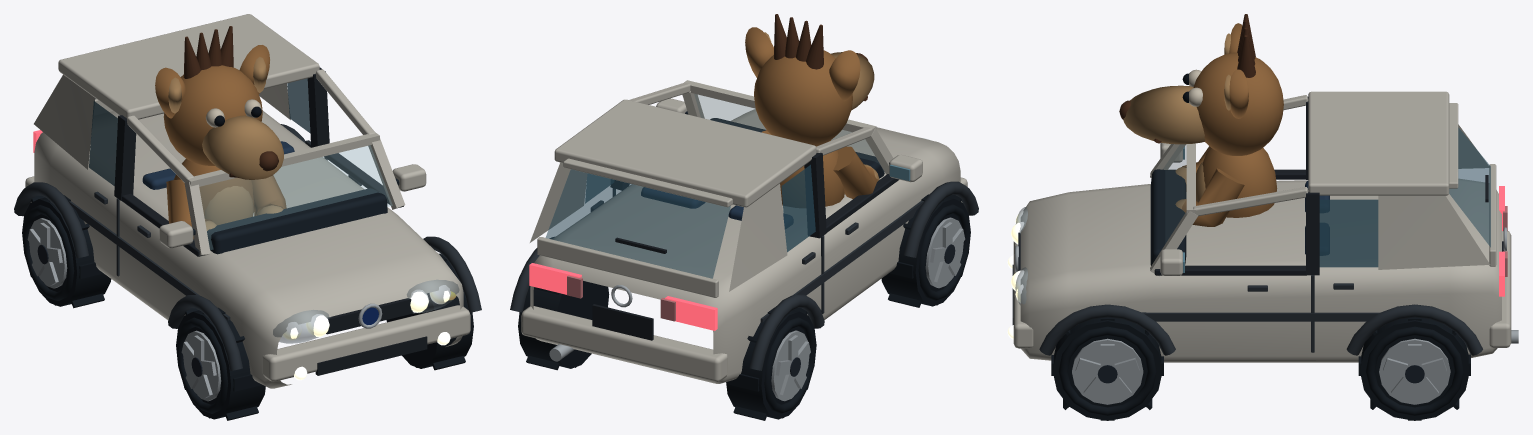
Rendered from hola-willy.glb.
The picture shows the model from 3 angles, left to right: view 1: azimuth 30°, elevation 25°; view 2: azimuth 150°, elevation 25°; view 3: azimuth 270°, elevation 25°; orthographic projection.
Parts seen in each view (by area): view 1: hull_merged, tire_merged (×3), low-windscreen, grille_merged, side-rubbing-strip_merged, alf-head_merged, dashboard, alf-snout_merged, c-pillar_merged, rim_merged (×2), side-glass_merged, headlight-cover_merged (+7 smaller); view 2: hull_merged, hatch-glass, tire_merged (×3), alf-head_merged, side-rubbing-strip_merged, c-pillar_merged, grille_merged, rim_merged (×2), side-glass_merged, tail-light_merged, alf-nose_merged, low-windscreen (+8 smaller); view 3: hull_merged, tire_merged (×2), c-pillar_merged, side-rubbing-strip_merged, alf-head_merged, rim_merged (×2), side-glass_merged, alf-snout_merged, grille_merged, alf-body, hatch-glass, dashboard (+7 smaller).
Boxes of the visible parts, x1,y1,x2,y2 form: hull_merged: (25, 14, 470, 388); tire_merged (×3): (22, 195, 473, 420); low-windscreen: (199, 145, 392, 249); grille_merged: (114, 67, 427, 375); side-rubbing-strip_merged: (14, 124, 481, 370); alf-head_merged: (155, 45, 269, 165); dashboard: (207, 188, 387, 254); alf-snout_merged: (168, 57, 283, 179); c-pillar_merged: (34, 74, 290, 169); rim_merged (×2): (27, 218, 221, 401); side-glass_merged: (89, 78, 310, 185); headlight-cover_merged: (273, 279, 459, 343); hull_merged: (521, 80, 967, 383); hatch-glass: (545, 169, 730, 278); tire_merged (×3): (518, 194, 970, 420); alf-head_merged: (745, 27, 860, 146); side-rubbing-strip_merged: (510, 181, 978, 370); c-pillar_merged: (530, 162, 787, 291); grille_merged: (592, 152, 898, 340); rim_merged (×2): (771, 217, 965, 401); side-glass_merged: (585, 164, 815, 252); tail-light_merged: (529, 263, 717, 330); alf-nose_merged: (774, 14, 868, 101); low-windscreen: (694, 94, 884, 172); hull_merged: (1013, 91, 1511, 362); tire_merged (×2): (1051, 317, 1470, 420); c-pillar_merged: (1378, 124, 1490, 269); side-rubbing-strip_merged: (1039, 275, 1482, 355); alf-head_merged: (1193, 23, 1283, 155); rim_merged (×2): (1072, 338, 1450, 404); side-glass_merged: (1319, 199, 1378, 267); alf-snout_merged: (1123, 33, 1230, 144); grille_merged: (1012, 97, 1504, 324); alf-body: (1202, 148, 1277, 217); hatch-glass: (1449, 127, 1490, 247); dashboard: (1150, 169, 1186, 265).
Size of the model in its own units: 2.6 by 3.04 by 4.46.
